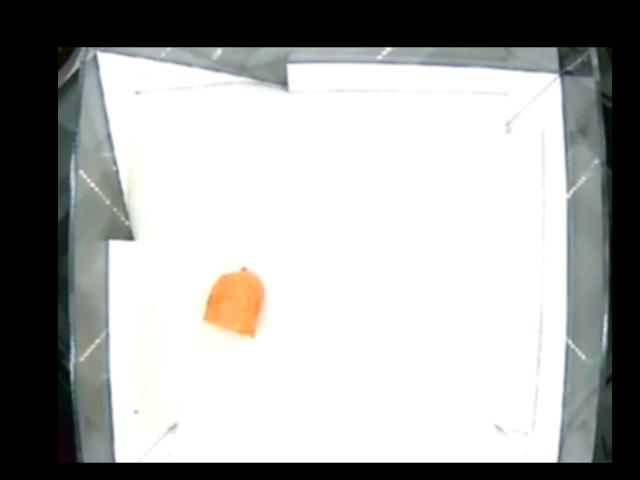Carrot: (205, 267, 264, 338)
